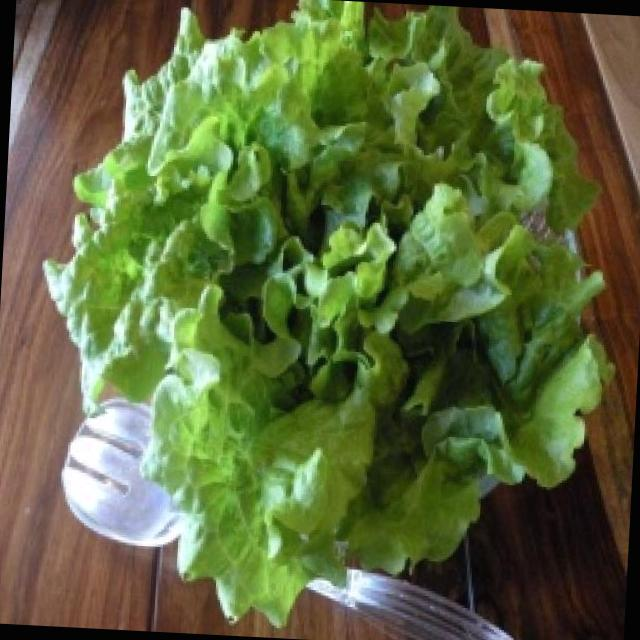Lettuce-Ready-to-Harvest: (46, 0, 610, 624)
